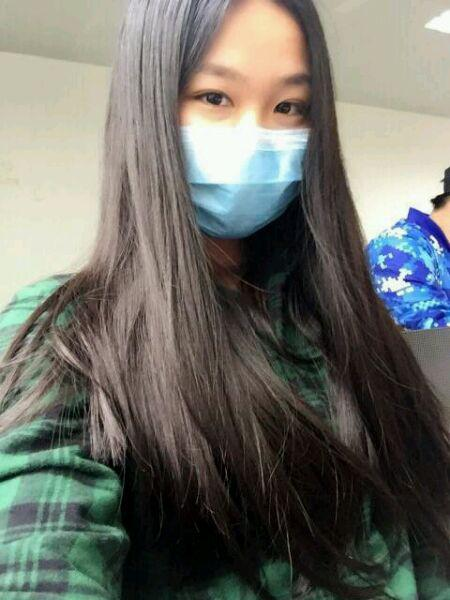OK: (165, 45, 312, 233)
